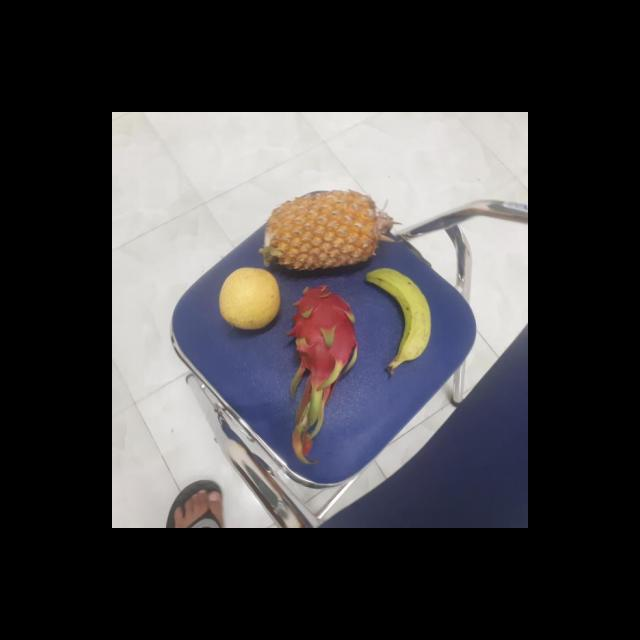banana: (364, 266, 432, 362)
pear: (214, 268, 282, 332)
pineapple: (260, 190, 386, 276)
pitaya: (282, 284, 358, 382)
